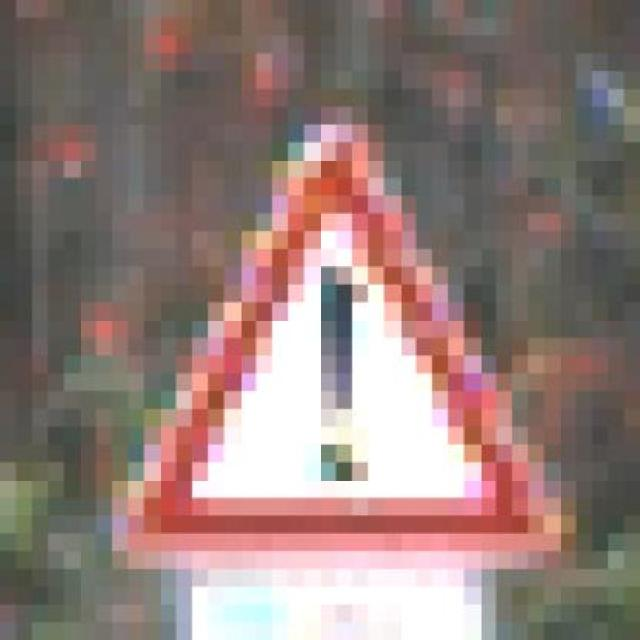Attention Please-: (79, 89, 576, 569)
